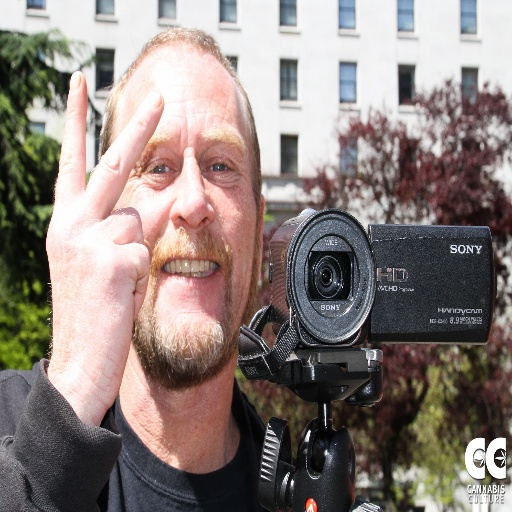hand: (29, 64, 174, 453)
